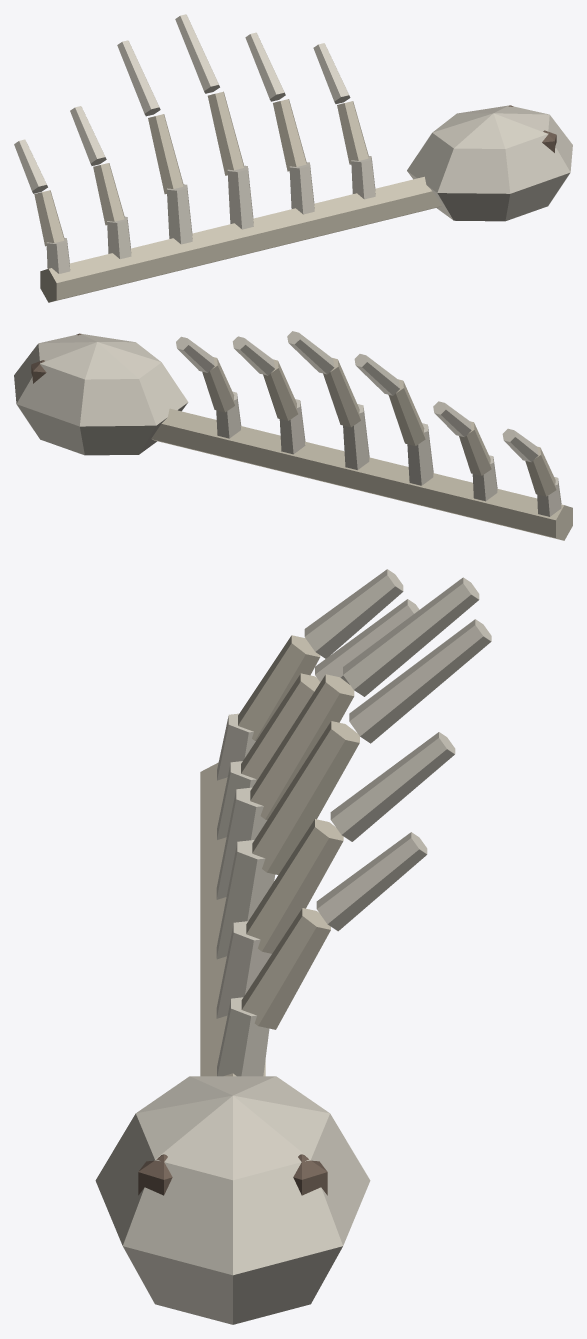
File: tarhut_ossos_2.glb
3 renders of one model, top to bottom at view 1: azimuth 30°, elevation 25°; view 2: azimuth 150°, elevation 25°; view 3: azimuth 270°, elevation 25°, orthographic. The views are drawn at different scales.
Visible parts, largest first — view 1: ossos; view 2: ossos; view 3: ossos.
Boxes of the visible parts, x1,y1,x2,y2 form: ossos: (14, 14, 572, 302); ossos: (14, 331, 572, 540); ossos: (95, 569, 491, 1324).
Bounding box in the file's own units: 3.87 × 1.53 × 1.26.
